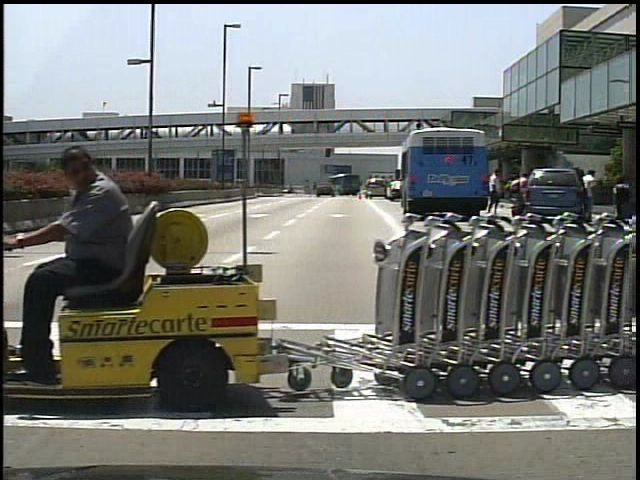person: (38, 143, 148, 383), (507, 167, 529, 220), (580, 165, 601, 214), (487, 166, 507, 217)
